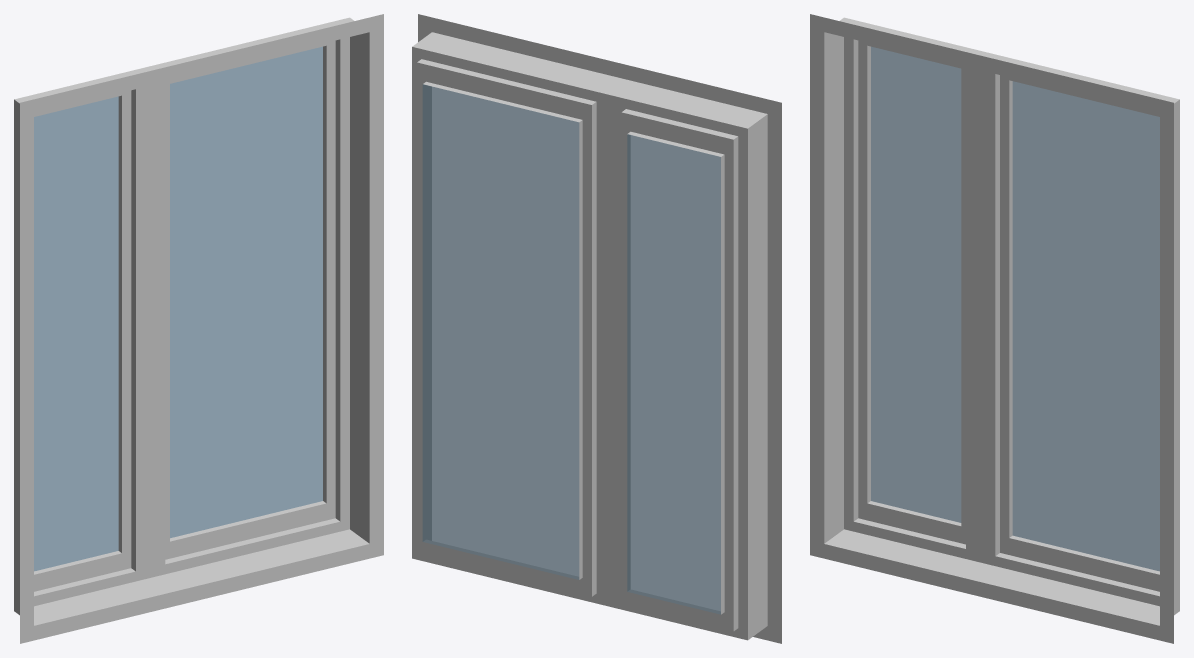
Rendered from p-44-window-stairs-2-pane.fbx.
The picture shows the model from 3 angles, left to right: view 1: azimuth 30°, elevation 25°; view 2: azimuth 150°, elevation 25°; view 3: azimuth 330°, elevation 25°; orthographic projection.
Visible parts, largest first — view 1: window-stairs-2-pane; view 2: window-stairs-2-pane; view 3: window-stairs-2-pane.
Boxes of the visible parts, bbox=[...] form: window-stairs-2-pane: bbox=[14, 14, 383, 643]; window-stairs-2-pane: bbox=[412, 14, 781, 643]; window-stairs-2-pane: bbox=[810, 14, 1179, 643].
Size of the model in its own units: 115 by 163 by 15.32.
